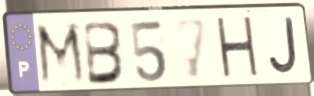5: (127, 17, 170, 85)
7: (174, 16, 209, 84)
B: (82, 19, 128, 88)
H: (213, 13, 263, 84)
J: (267, 15, 301, 78)
M: (33, 20, 90, 89)
